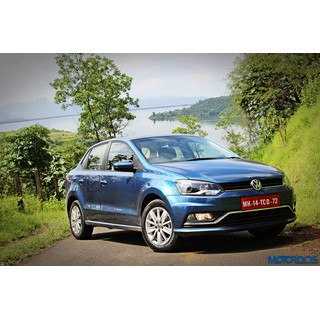car: (65, 135, 295, 250)
